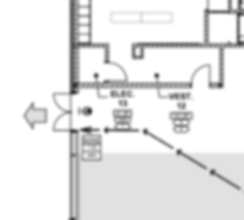door: (104, 61, 130, 82), (190, 64, 212, 86)
double door: (51, 91, 75, 133)
